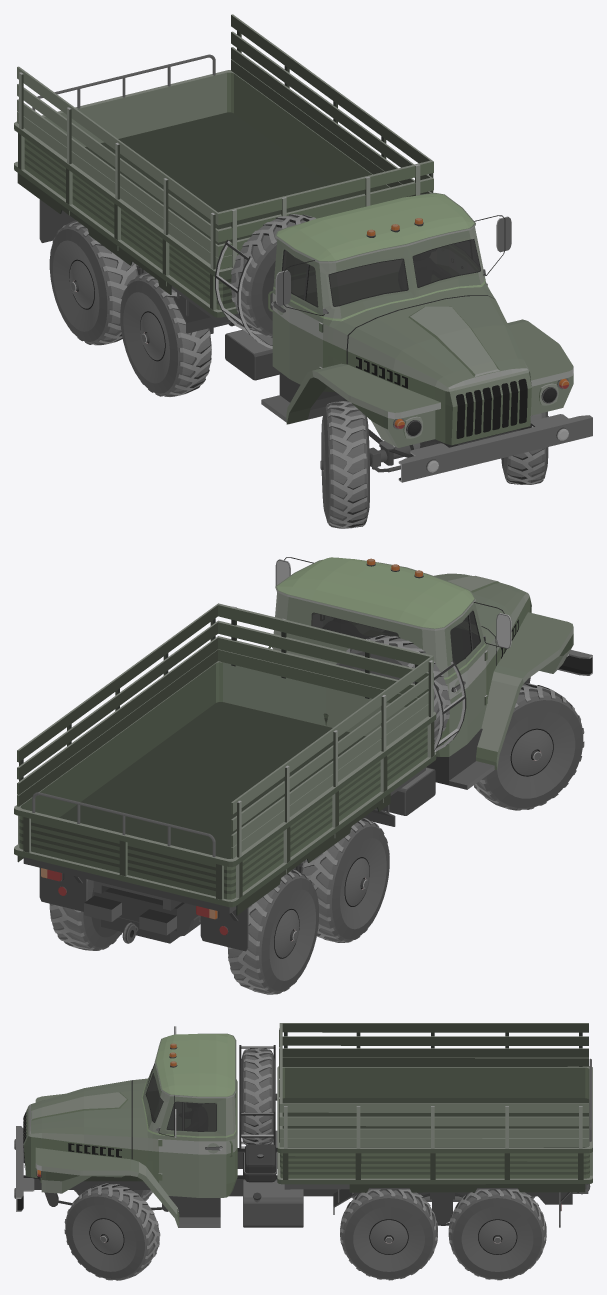
File: ural-truck-vehicle-only.glb
The picture shows the model from 3 angles, top to bottom: view 1: azimuth 30°, elevation 25°; view 2: azimuth 150°, elevation 25°; view 3: azimuth 270°, elevation 25°; orthographic projection. The views are drawn at different scales.
Parts seen in each view (by area): view 1: Cube.011_texture_0, Plane.005_texture_0, Cylinder.009_texture_0, Cylinder.029_texture_0, Plane.005_textureglass_0, Plane.003_texture_0, Cylinder.005_texture_0, Cube.009_texture_0, Plane.004_texture_0, Cylinder.028_texture_0, Cylinder.007_texture_0, Cylinder.008_texture_0 (+1 smaller); view 2: Cube.011_texture_0, Plane.005_texture_0, Cylinder.009_texture_0, Cylinder.029_texture_0, Cube.010_texture_0, Plane.004_texture_0, Plane.005_textureglass_0, Cylinder.005_texture_0, Cube.009_texture_0, Cylinder.008_texture_0, Cylinder.007_texture_0, Plane.003_texture_0; view 3: Cube.011_texture_0, Plane.005_texture_0, Cylinder.009_texture_0, Cylinder.028_texture_0, Cylinder.005_texture_0, Cube.010_texture_0, Cube.012_texture_0, Plane.005_textureglass_0, Cube.013_texture_0, Plane.003_texture_0, Cylinder.007_texture_0, Cube.008_texture_0 (+1 smaller).
Part boxes in pixels (x1=…): Cube.011_texture_0: x1=14, y1=14, x2=433, y2=323; Plane.005_texture_0: x1=261, y1=193, x2=573, y2=447; Cylinder.009_texture_0: x1=49, y1=220, x2=421, y2=472; Cylinder.029_texture_0: x1=320, y1=401, x2=369, y2=528; Plane.005_textureglass_0: x1=283, y1=239, x2=480, y2=306; Plane.003_texture_0: x1=398, y1=414, x2=592, y2=482; Cylinder.005_texture_0: x1=230, y1=214, x2=315, y2=337; Cube.009_texture_0: x1=225, y1=327, x2=279, y2=380; Plane.004_texture_0: x1=39, y1=199, x2=221, y2=333; Cylinder.028_texture_0: x1=501, y1=411, x2=548, y2=484; Cylinder.007_texture_0: x1=215, y1=240, x2=272, y2=348; Cylinder.008_texture_0: x1=32, y1=54, x2=215, y2=110; Cube.011_texture_0: x1=14, y1=603, x2=436, y2=915; Plane.005_texture_0: x1=268, y1=557, x2=573, y2=789; Cylinder.009_texture_0: x1=49, y1=818, x2=389, y2=994; Cylinder.029_texture_0: x1=474, y1=683, x2=584, y2=810; Cube.010_texture_0: x1=84, y1=677, x2=530, y2=943; Plane.004_texture_0: x1=39, y1=805, x2=395, y2=951; Plane.005_textureglass_0: x1=312, y1=611, x2=479, y2=663; Cylinder.005_texture_0: x1=336, y1=635, x2=450, y2=742; Cube.009_texture_0: x1=376, y1=767, x2=435, y2=815; Cylinder.008_texture_0: x1=32, y1=792, x2=215, y2=857; Cylinder.007_texture_0: x1=433, y1=660, x2=466, y2=751; Plane.003_texture_0: x1=558, y1=650, x2=592, y2=675; Cube.011_texture_0: x1=277, y1=1023, x2=592, y2=1192; Plane.005_texture_0: x1=23, y1=1026, x2=237, y2=1227; Cylinder.009_texture_0: x1=58, y1=1189, x2=546, y2=1280; Cylinder.028_texture_0: x1=64, y1=1183, x2=160, y2=1280; Cylinder.005_texture_0: x1=241, y1=1048, x2=277, y2=1144; Cube.010_texture_0: x1=23, y1=1148, x2=588, y2=1224; Cube.012_texture_0: x1=243, y1=1179, x2=303, y2=1227; Plane.005_textureglass_0: x1=146, y1=1063, x2=216, y2=1131; Cube.013_texture_0: x1=244, y1=1144, x2=276, y2=1182; Plane.003_texture_0: x1=15, y1=1126, x2=34, y2=1211; Cylinder.007_texture_0: x1=239, y1=1045, x2=275, y2=1148; Cube.008_texture_0: x1=179, y1=1103, x2=207, y2=1130.
Bounding box in the file's own units: 0.2948 × 0.2739 × 0.7573.
3 materials, 3 textured.
